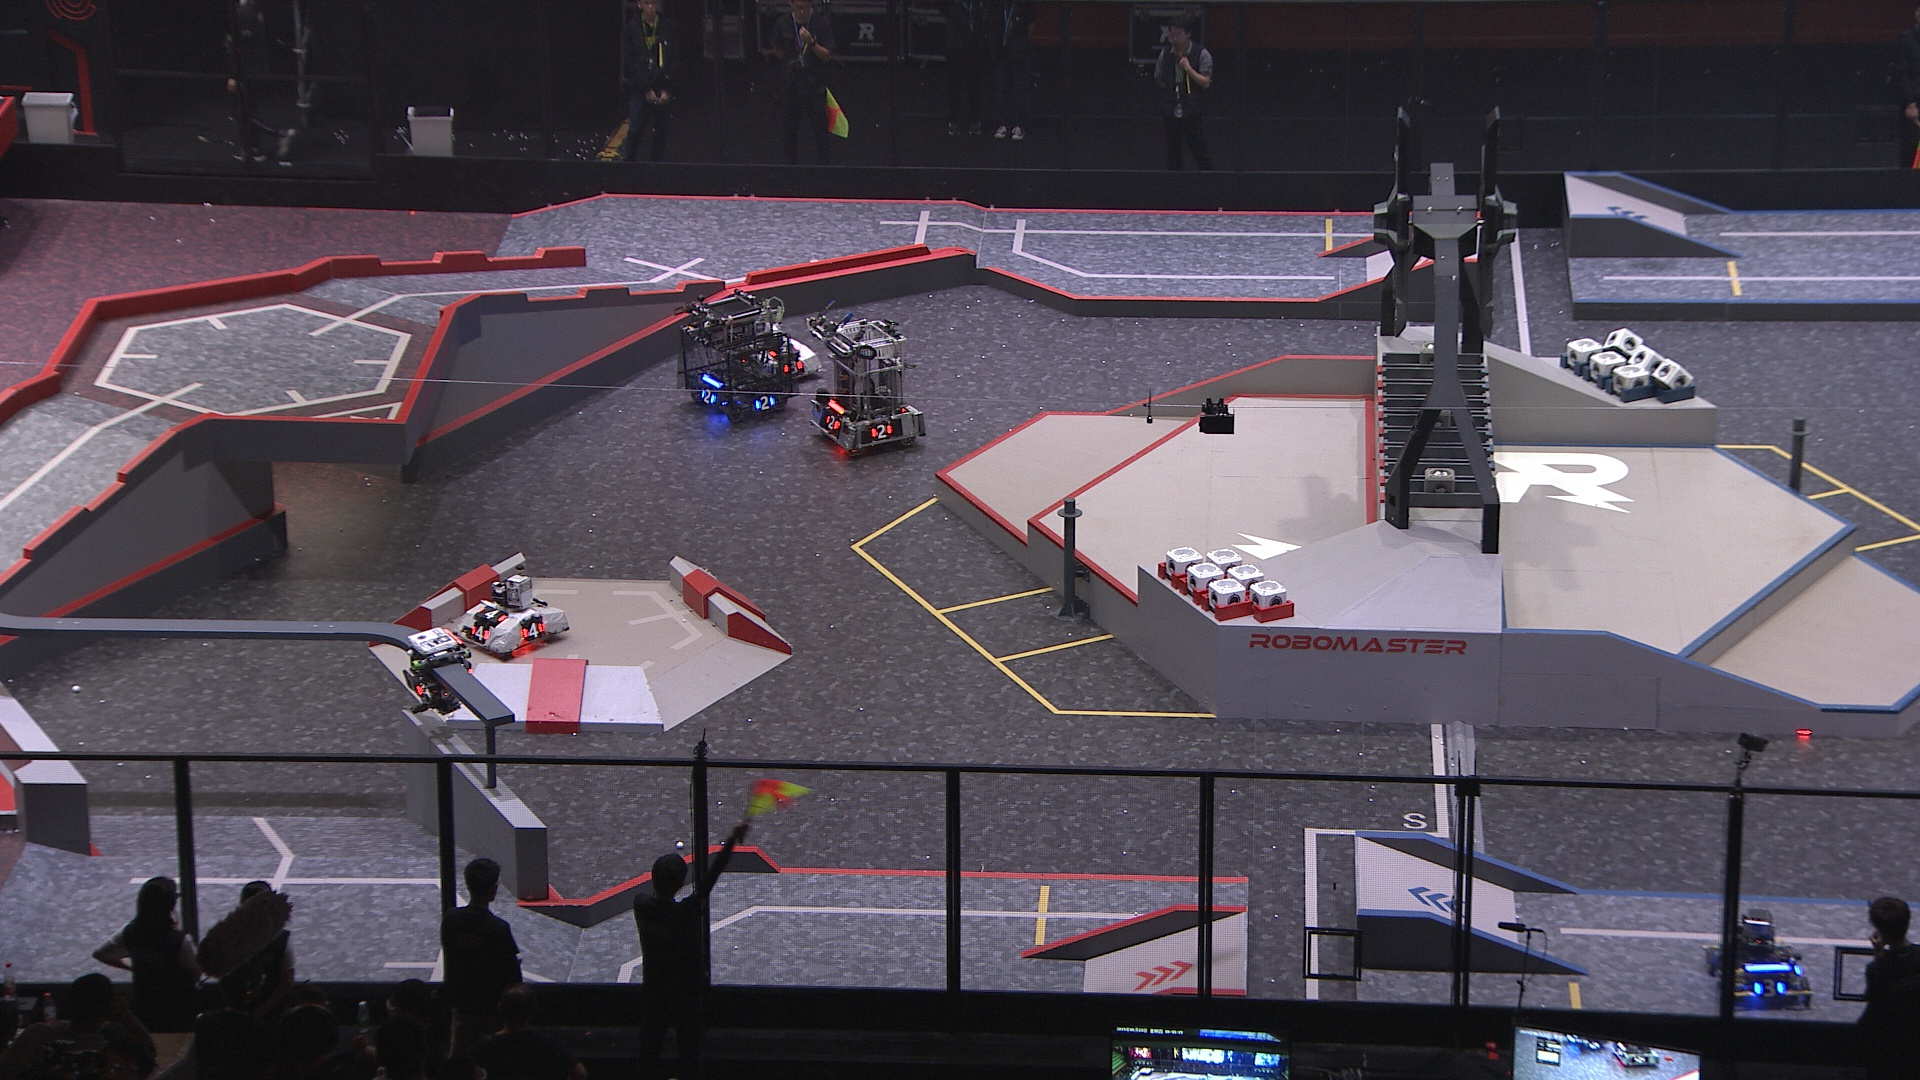armor: (1749, 975, 1787, 1000), (400, 669, 429, 700), (520, 618, 550, 642), (866, 422, 897, 443), (752, 392, 779, 414), (479, 603, 506, 624), (694, 386, 721, 407), (820, 409, 844, 433), (467, 621, 491, 645), (781, 357, 806, 377)
car: (800, 310, 923, 458), (673, 286, 796, 425), (1702, 905, 1812, 1007), (458, 562, 572, 659), (731, 314, 823, 386)
watcher: (396, 628, 476, 721)
